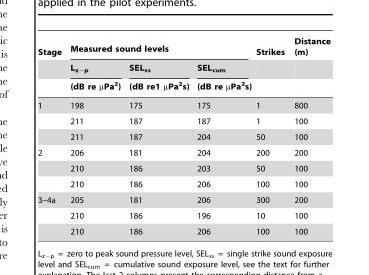table: (37, 36, 330, 235)
table column: (124, 36, 192, 235), (192, 36, 253, 235), (65, 36, 124, 235), (288, 36, 330, 235), (253, 36, 288, 235), (37, 36, 65, 235)
table column header: (37, 36, 330, 95)
table row: (37, 36, 330, 59), (37, 76, 330, 95), (37, 95, 330, 113), (37, 59, 330, 76), (37, 128, 330, 144), (37, 144, 330, 160), (37, 160, 330, 176), (37, 191, 330, 207), (37, 207, 330, 223), (37, 113, 330, 128), (37, 176, 330, 191), (37, 223, 330, 235)
table spanning cell: (65, 36, 253, 59), (288, 36, 330, 95), (124, 59, 192, 95), (192, 59, 253, 95), (65, 59, 124, 95), (253, 36, 288, 95), (37, 36, 65, 95), (37, 95, 65, 144), (37, 144, 65, 191), (37, 191, 65, 235)
